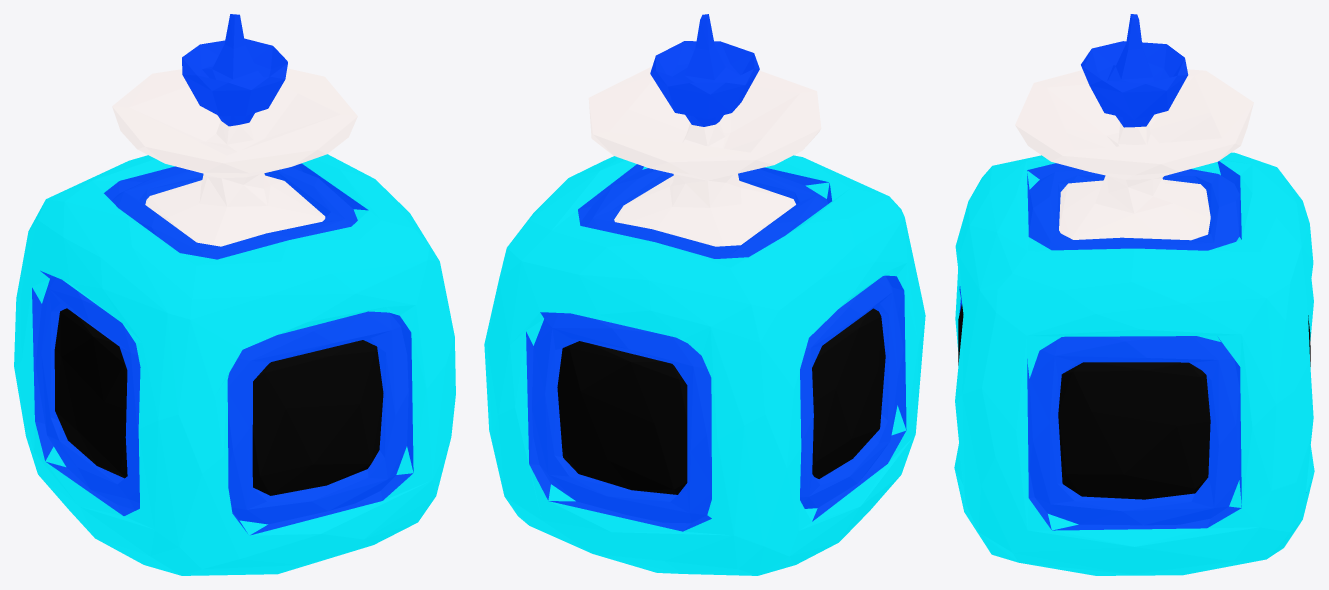
The model's file is the_end.glb.
3 renders of one model, left to right at view 1: azimuth 30°, elevation 25°; view 2: azimuth 150°, elevation 25°; view 3: azimuth 270°, elevation 25°, orthographic.
Parts seen in each view (by area): view 1: the_end; view 2: the_end; view 3: the_end.
Part boxes in pixels (<box>): the_end: <box>14,14,455,575</box>; the_end: <box>484,14,925,575</box>; the_end: <box>954,14,1314,575</box>.
Bounding box in the file's own units: 1.65 × 2.57 × 1.65.
